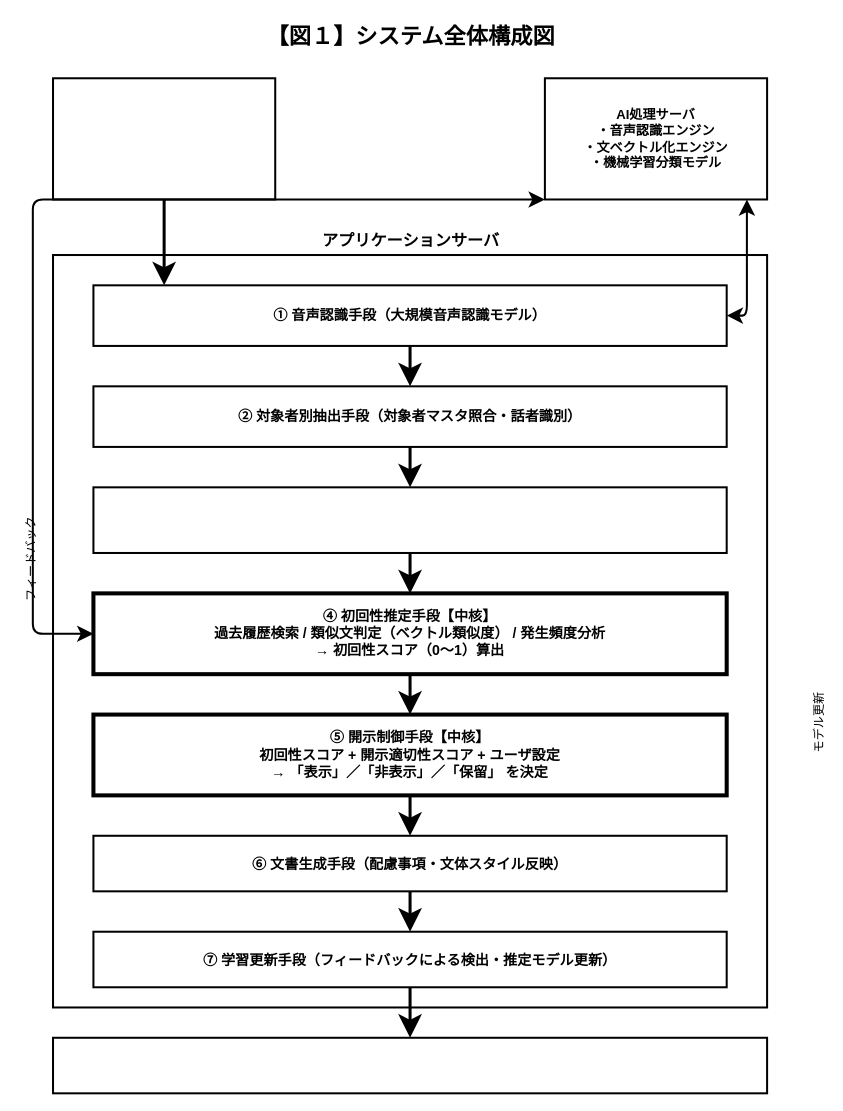
Some shapes in this 843 by 1111 pixel diagram are drawn without their labels. The shapes that lost their labels are listed below. From the top down, each one's centre as x and y in pixels, then its label:
At point 164,138: "施設担当者端末 （タブレット・PC等） ・音声入力 ・ドラフト確認 ・承認・フィードバック".
At point 409,519: "③ 発達イベント検出手段 キーワード照合 / 文脈解析 / 機械学習分類".
At point 410,1065: "データベースサーバ：対象者マスタ／過去報告文書／配慮事項記録／除外情報記録／フィードバック履歴".
